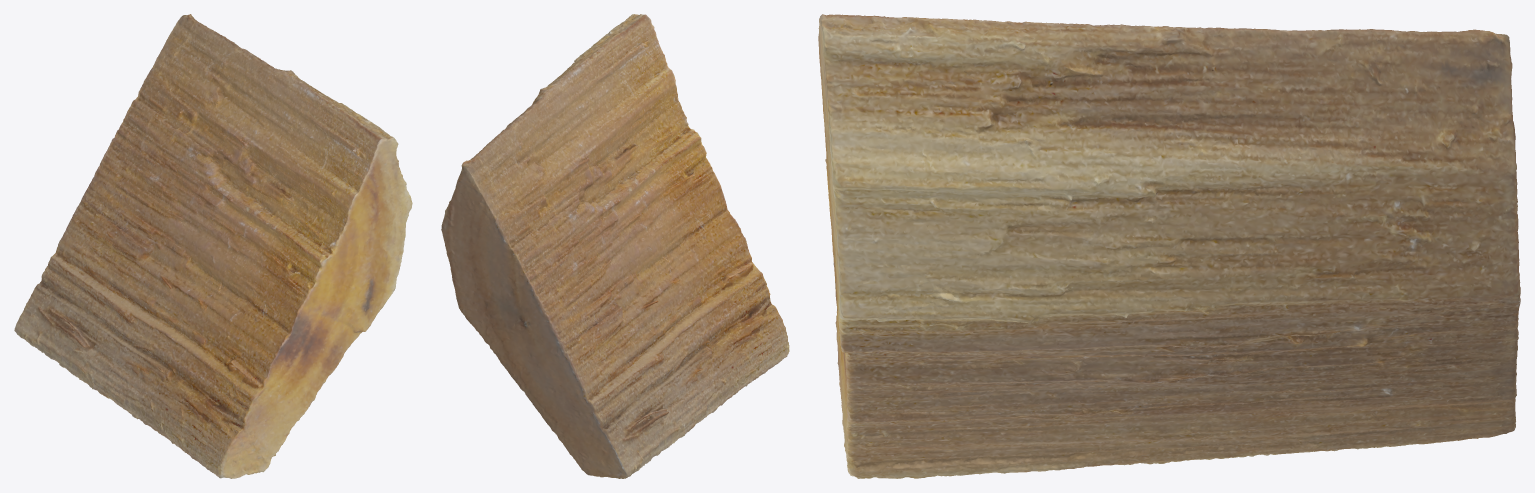
File: sappanwood-real-scan.glb
3 renders of one model, left to right at view 1: azimuth 30°, elevation 25°; view 2: azimuth 150°, elevation 25°; view 3: azimuth 270°, elevation 25°, orthographic. The views are drawn at different scales.
Visible parts, largest first — view 1: Object_5, Object_6, Object_4, Object_7, Object_8; view 2: Object_7, Object_4, Object_5, Object_6, Object_8; view 3: Object_5, Object_7, Object_4, Object_6, Object_8.
Part boxes in pixels (x1=…): Object_5: x1=184, y1=70, x2=412, y2=478; Object_6: x1=123, y1=58, x2=388, y2=478; Object_4: x1=14, y1=14, x2=405, y2=474; Object_7: x1=33, y1=20, x2=303, y2=477; Object_8: x1=16, y1=16, x2=406, y2=449; Object_7: x1=441, y1=113, x2=787, y2=456; Object_4: x1=459, y1=14, x2=728, y2=478; Object_5: x1=532, y1=19, x2=789, y2=377; Object_6: x1=528, y1=24, x2=789, y2=409; Object_8: x1=443, y1=15, x2=757, y2=477; Object_5: x1=820, y1=15, x2=1293, y2=478; Object_7: x1=956, y1=29, x2=1520, y2=474; Object_4: x1=818, y1=14, x2=1516, y2=471; Object_6: x1=834, y1=17, x2=1275, y2=478; Object_8: x1=819, y1=15, x2=1519, y2=462.
Size of the model in its own units: 15.42 by 22 by 25.
